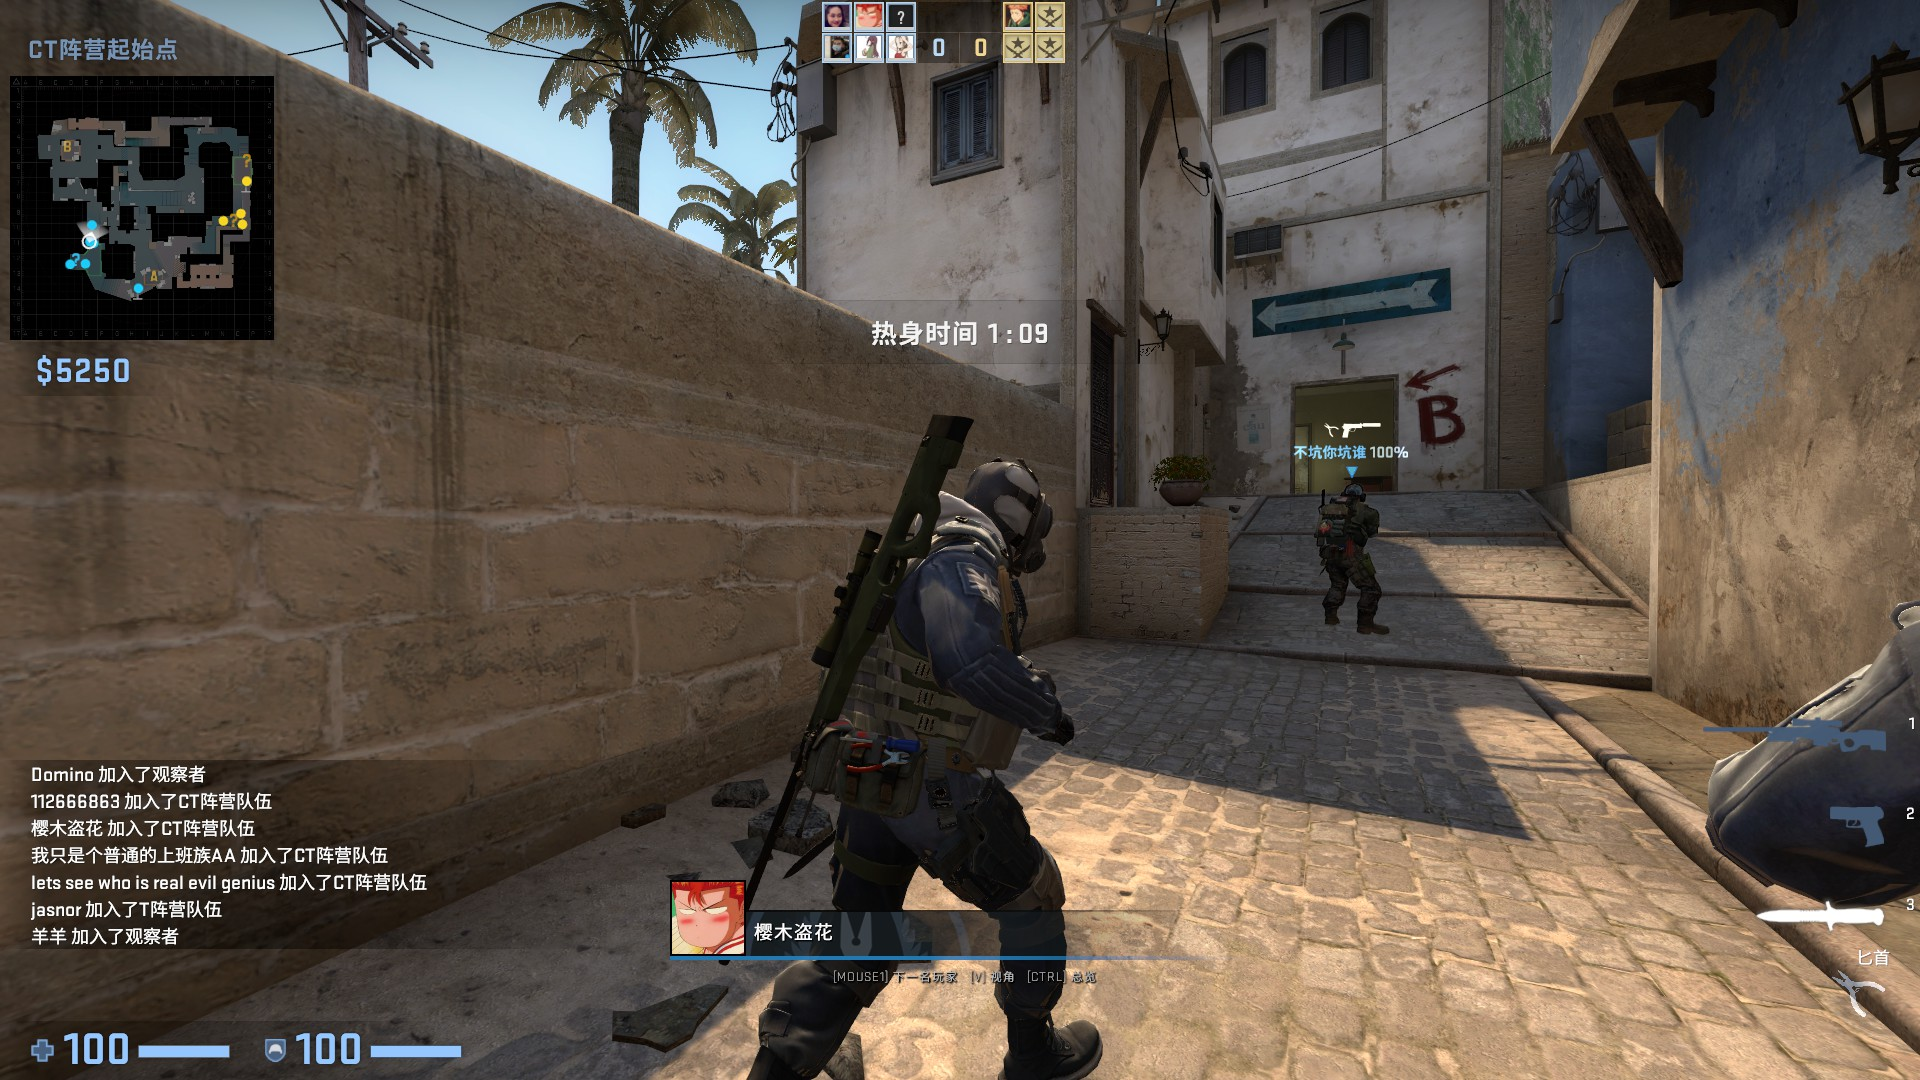head: (965, 449, 1062, 579), (1342, 481, 1368, 501)
